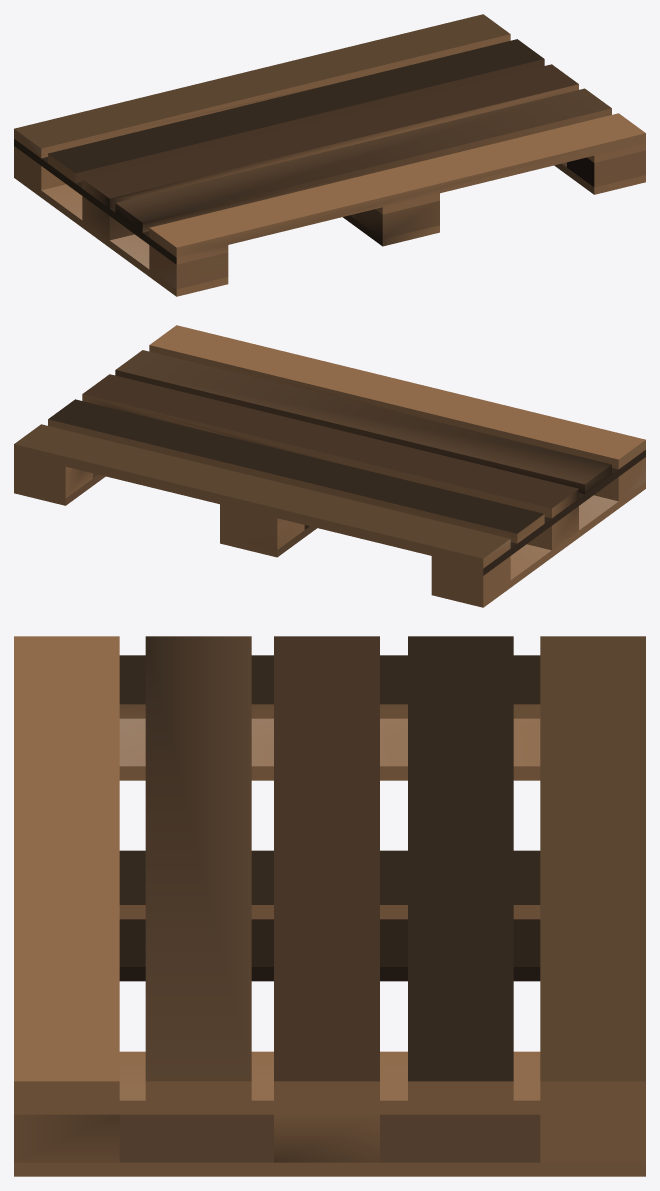
Rendered from SM_pallete.FBX.
The picture shows the model from 3 angles, top to bottom: view 1: azimuth 30°, elevation 25°; view 2: azimuth 150°, elevation 25°; view 3: azimuth 270°, elevation 25°; orthographic projection. The views are drawn at different scales.
Visible parts, largest first — view 1: Palette; view 2: Palette; view 3: Palette.
Part boxes in pixels (bbox=[...]): Palette: bbox=[14, 14, 645, 296]; Palette: bbox=[14, 325, 645, 607]; Palette: bbox=[14, 636, 645, 1176].
Bounding box in the file's own units: 100 × 10 × 60.
